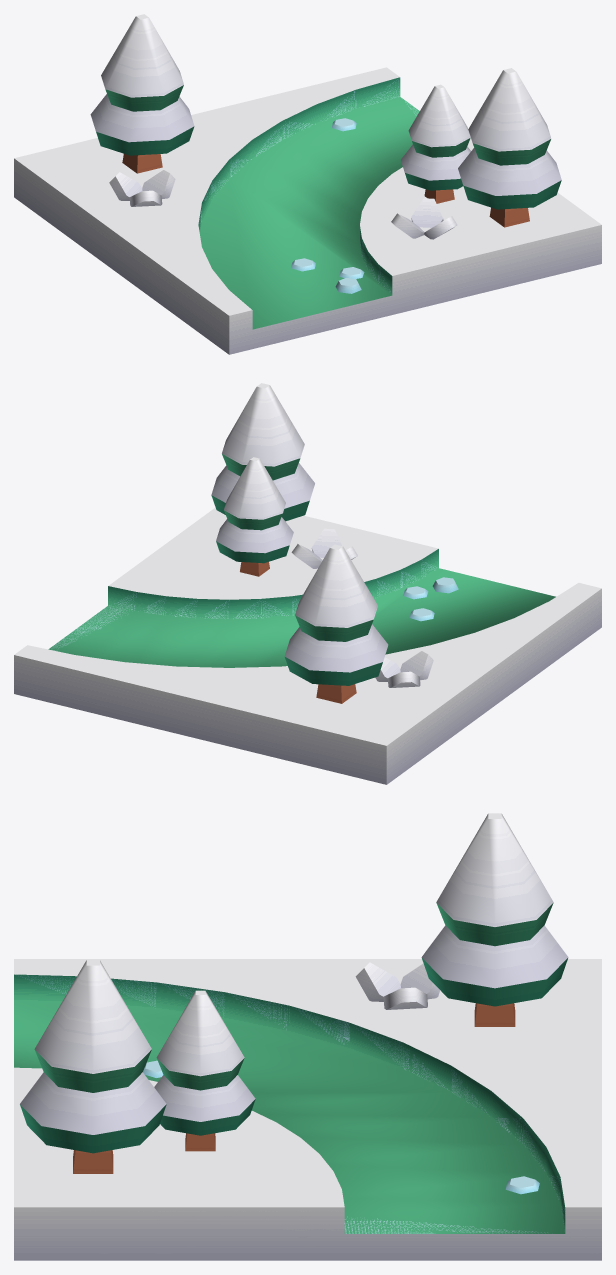
File: snow-tile-corner-large.glb
3 views of the same model, one above another, from view 1: azimuth 30°, elevation 25°; view 2: azimuth 150°, elevation 25°; view 3: azimuth 270°, elevation 25° (orthographic). The views are drawn at different scales.
Visible parts, largest first — view 1: snow-tile-corner-large; view 2: snow-tile-corner-large; view 3: snow-tile-corner-large.
Boxes of the visible parts, x1,y1,x2,y2 form: snow-tile-corner-large: (14,14,601,354); snow-tile-corner-large: (14,383,601,784); snow-tile-corner-large: (14,813,601,1260).
Size of the model in its own units: 2 by 0.9601 by 2.
1 material, 1 textured.
